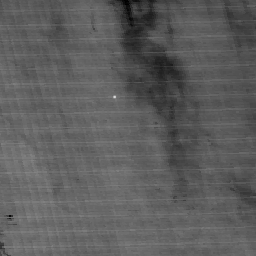Target: (111, 93, 118, 100)
